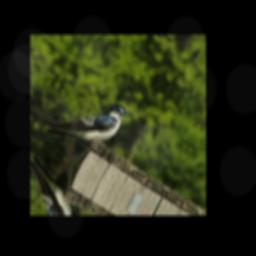Swallow: (42, 73, 130, 167)
